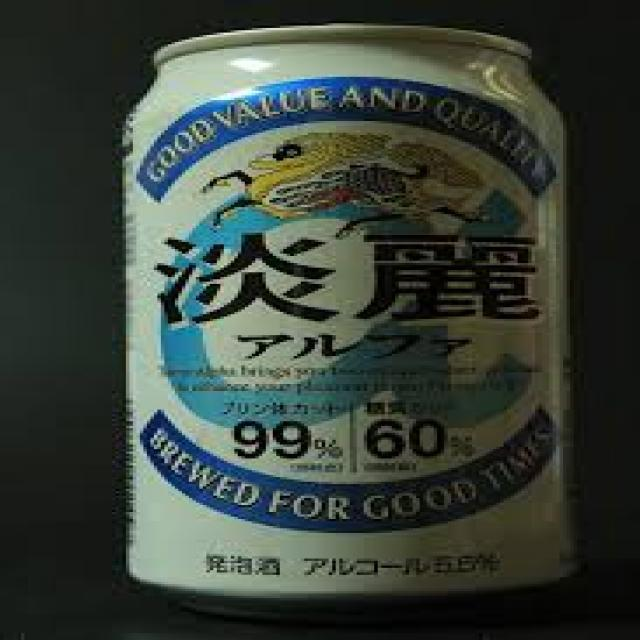recyclable: (122, 21, 570, 622)
